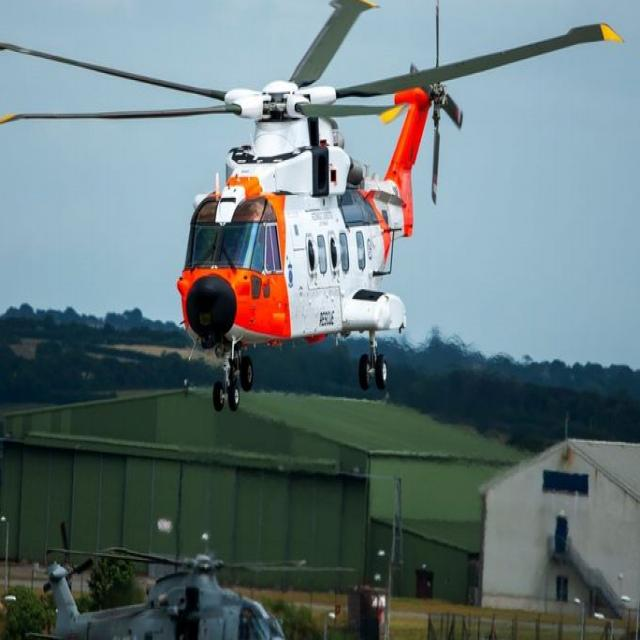helicopter: (1, 1, 626, 409)
